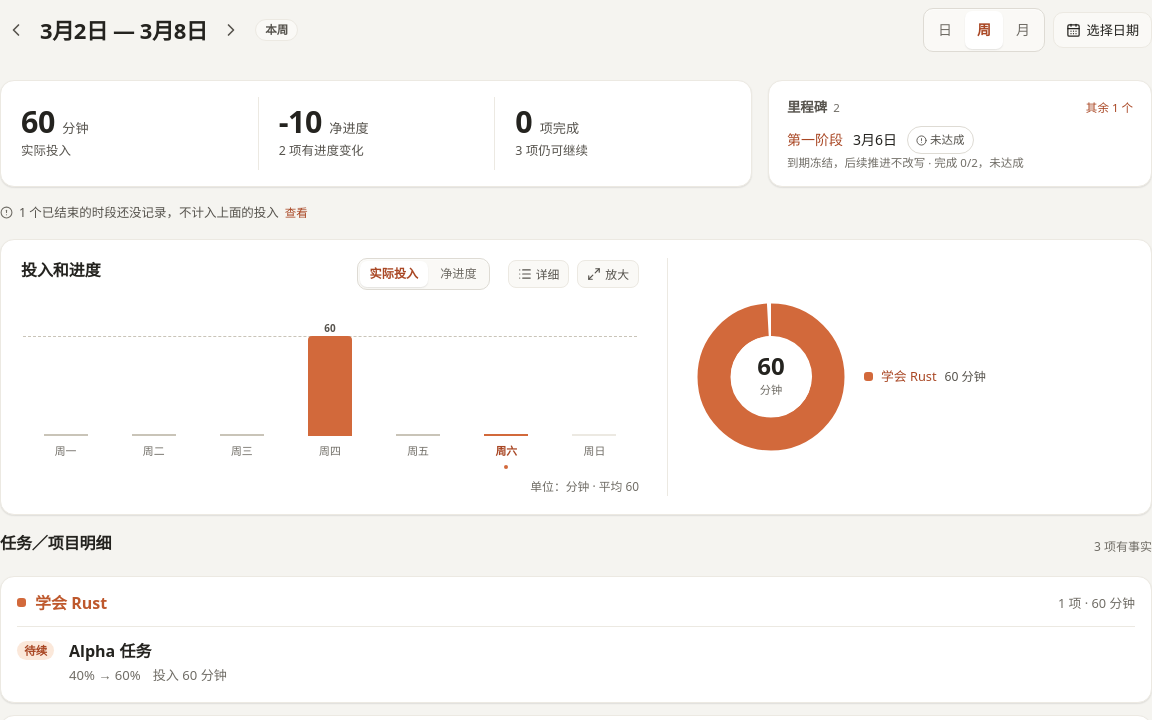
Test: review page › lists only the remaining milestones in the popover instead of repeating the first
The image size is (1152, 720).
Click the button "其余 1 个" at (1109, 108), box [1086,97,1133,119]
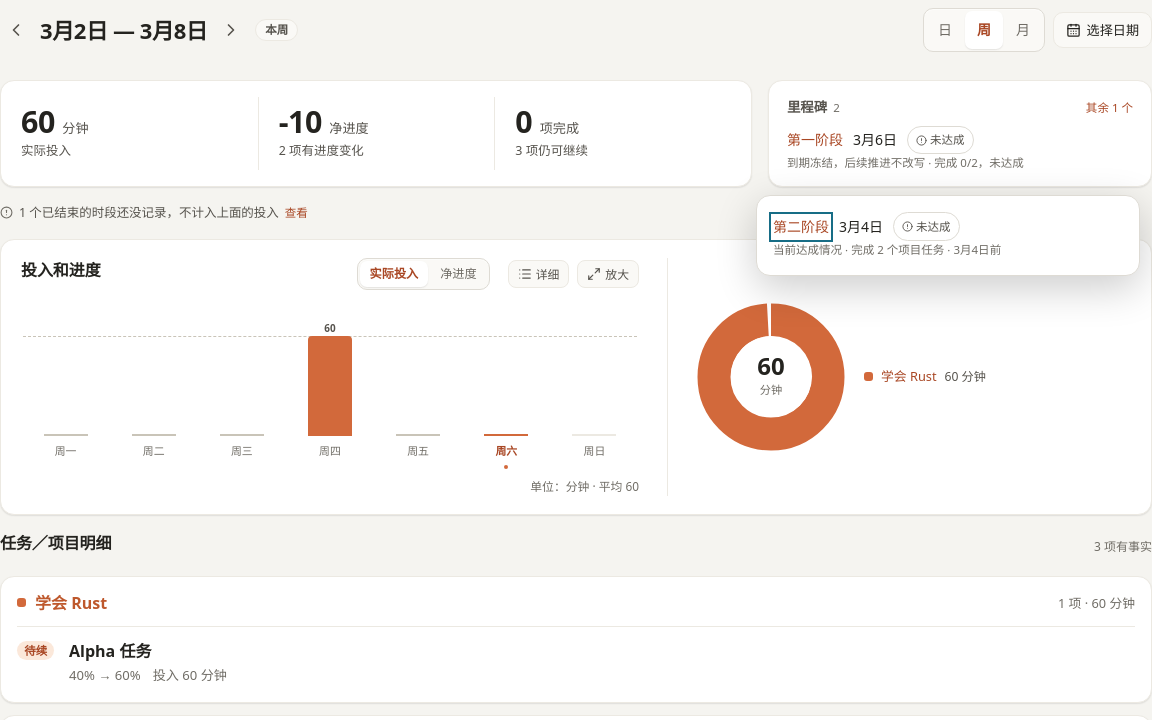
Expected: the button "第二阶段" is shown, [773,216,829,238]
